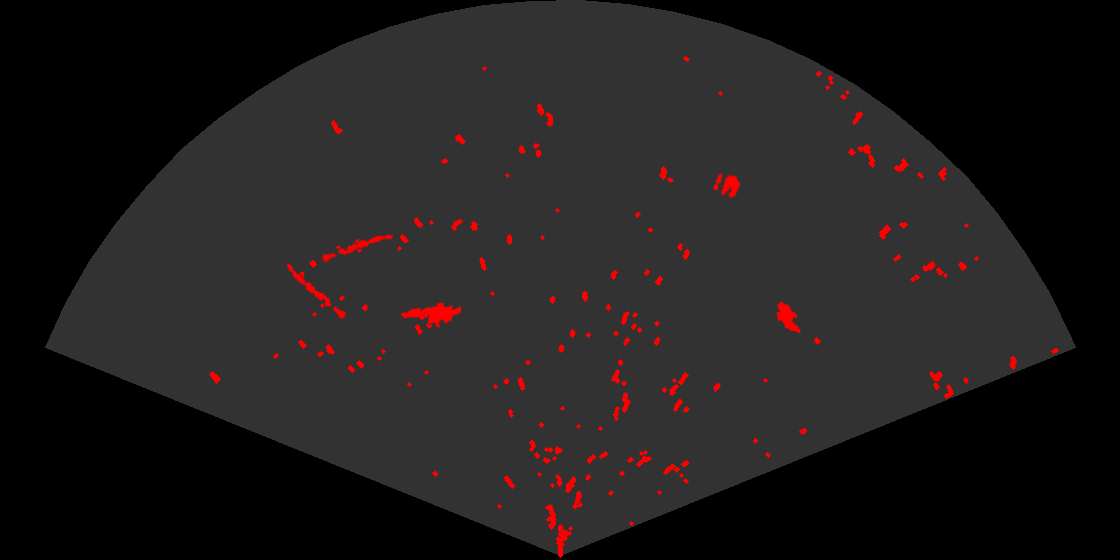AUV: (775, 300, 802, 335)
ball: (712, 172, 742, 200)
chain: (285, 262, 351, 325), (316, 233, 396, 264)
frogman: (399, 301, 461, 329)
